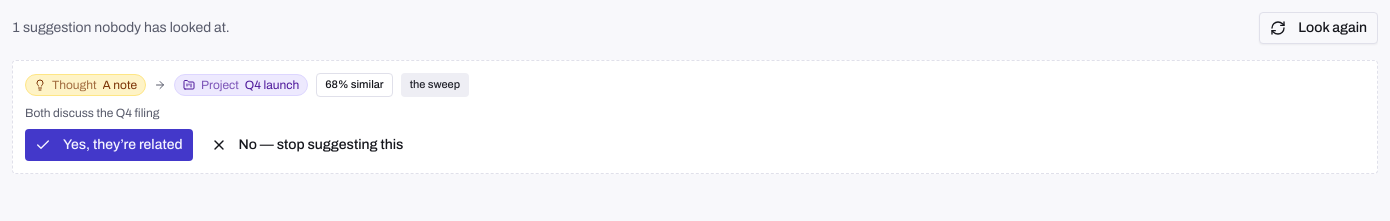
ConnectionsView › brings the row back when the decision failed to save
Click the button "Yes, they’re related" at (109, 145), box 25,129 -> 192,161
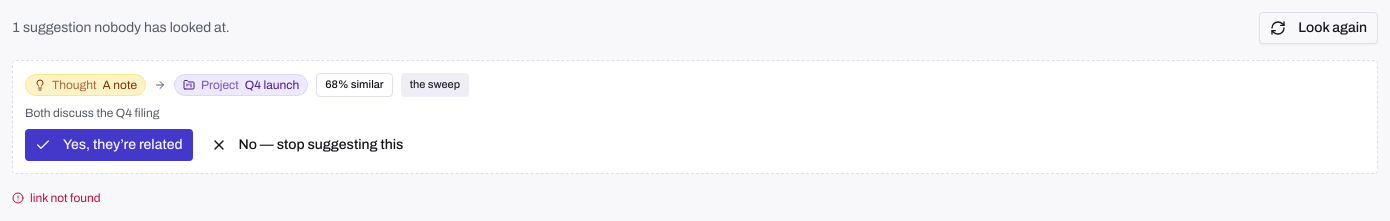
expect the text "Q4 launch" is shown: met, box 245,77 -> 299,93
expect the text "link not found" is shown: met, box 12,191 -> 100,205
